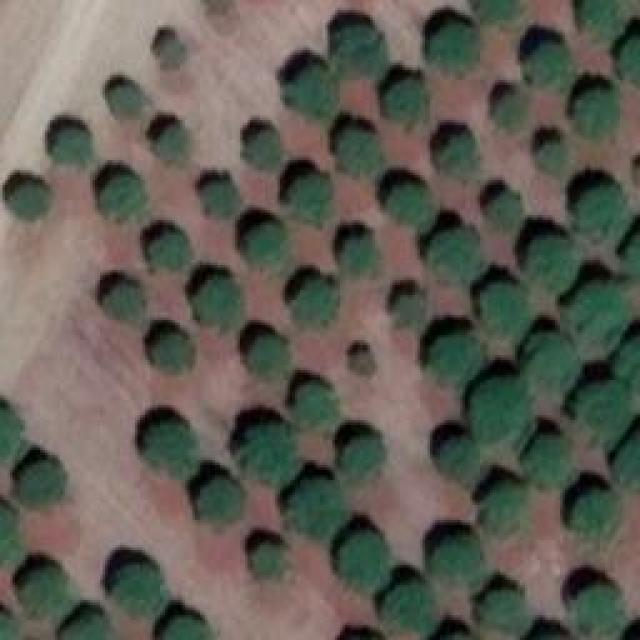Tree: (473, 377, 533, 445), (570, 283, 630, 346), (242, 423, 300, 488), (288, 480, 348, 540), (578, 380, 628, 440), (430, 228, 483, 283), (342, 533, 390, 593), (428, 23, 481, 76), (115, 565, 168, 618), (528, 335, 581, 388), (148, 425, 198, 478), (388, 585, 441, 635), (435, 538, 483, 591), (530, 238, 578, 291), (482, 283, 530, 336), (433, 333, 483, 383), (580, 188, 628, 238), (335, 27, 383, 75), (195, 278, 240, 328), (573, 585, 623, 630), (528, 435, 573, 485), (287, 70, 335, 115), (293, 280, 338, 328), (293, 385, 338, 433), (573, 490, 618, 538), (290, 175, 330, 228), (198, 478, 243, 523), (338, 130, 381, 175), (23, 568, 68, 611), (20, 463, 65, 506), (388, 185, 431, 228), (343, 438, 383, 483), (485, 590, 530, 630), (100, 175, 143, 215), (245, 225, 285, 268), (440, 135, 480, 178), (440, 440, 480, 483), (528, 43, 568, 86), (485, 485, 523, 530), (385, 80, 428, 118), (577, 90, 615, 133), (615, 435, 640, 498), (105, 282, 145, 320), (153, 335, 193, 373), (582, 0, 620, 40), (148, 235, 191, 270), (253, 338, 288, 381), (0, 407, 25, 465), (52, 125, 90, 163), (343, 235, 378, 275), (202, 183, 240, 218), (0, 505, 22, 565), (65, 615, 115, 640), (245, 133, 280, 168), (488, 193, 523, 228), (253, 543, 286, 578), (158, 125, 188, 163), (13, 185, 46, 218), (622, 32, 640, 90), (165, 617, 210, 640), (480, 0, 520, 25), (393, 295, 423, 328), (110, 85, 140, 115), (620, 340, 640, 385), (495, 95, 525, 123), (158, 35, 183, 68), (540, 143, 565, 176), (0, 612, 22, 639), (353, 353, 373, 373)
